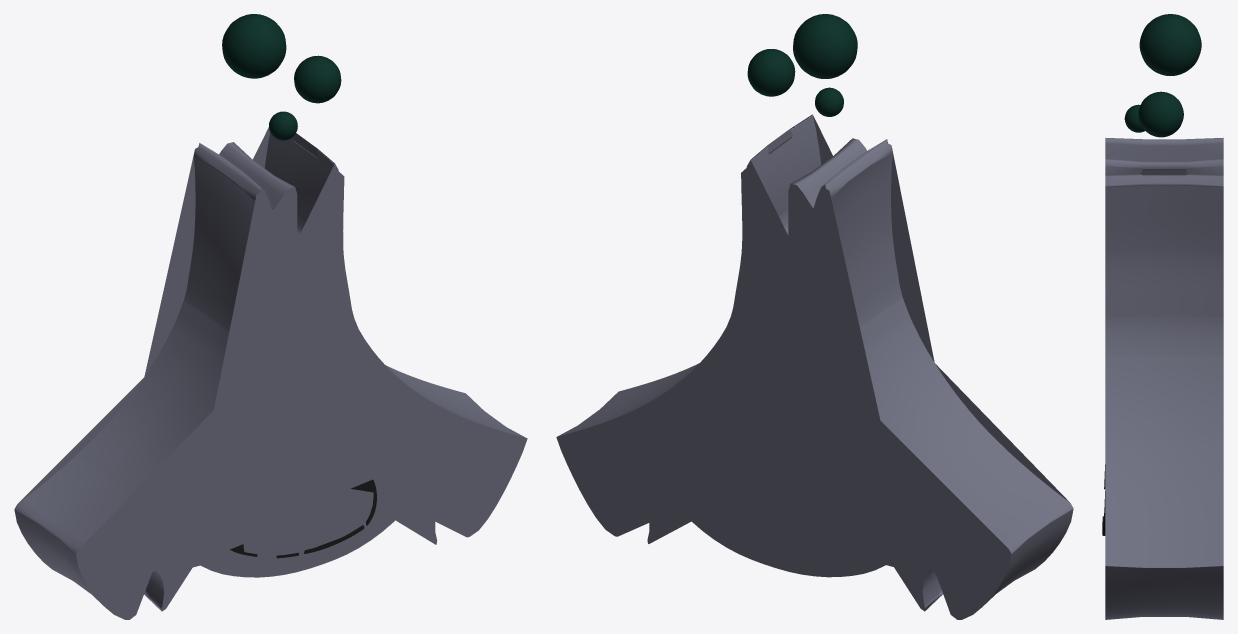
3 renders of one model, left to right at view 1: azimuth 30°, elevation 25°; view 2: azimuth 150°, elevation 25°; view 3: azimuth 270°, elevation 25°, orthographic. The views are drawn at different scales.
Visible parts, largest first — view 1: polySurface16; view 2: polySurface16; view 3: polySurface16.
Part boxes in pixels (x1,y1,x2,y2): polySurface16: (14,14,527,619); polySurface16: (556,14,1073,619); polySurface16: (1102,14,1223,619).
Bounding box in the file's own units: 7.18 × 8.19 × 1.74.
